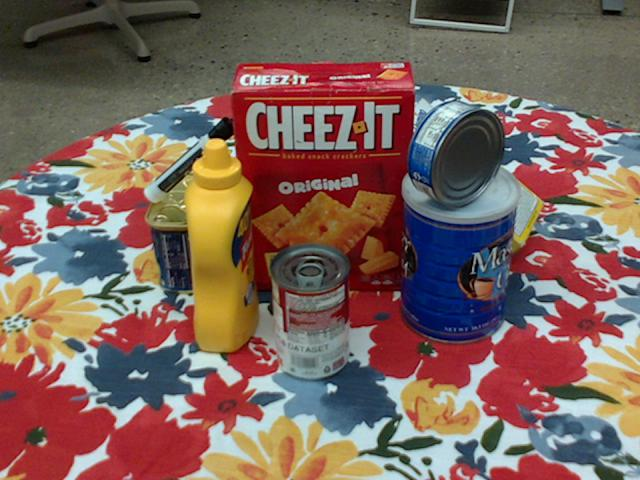cracker_box: (232, 62, 418, 289)
gelatin_box: (180, 153, 266, 236)
large_marker: (144, 116, 238, 202)
master_chef_can: (400, 159, 518, 346)
mug: (333, 124, 418, 223)
mustard_bottle: (184, 139, 257, 353)
potted_meat_can: (144, 172, 219, 294)
sugar_box: (373, 99, 545, 267)
tomato_soup_can: (269, 243, 349, 381)
tuna_fish_can: (409, 100, 505, 208)
